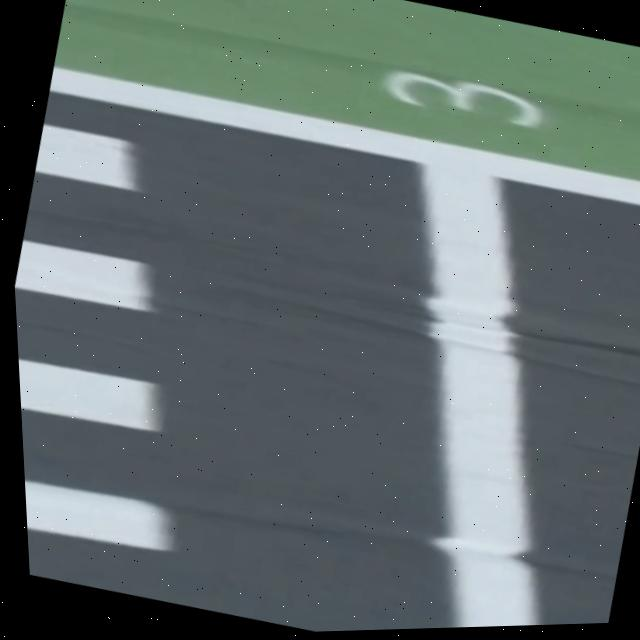right: (49, 66, 640, 203)
